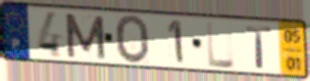1: (166, 19, 186, 66)
4: (33, 10, 66, 60)
L: (204, 20, 237, 70)
M: (62, 11, 108, 61)
O: (113, 13, 152, 66)
T: (244, 25, 274, 70)
